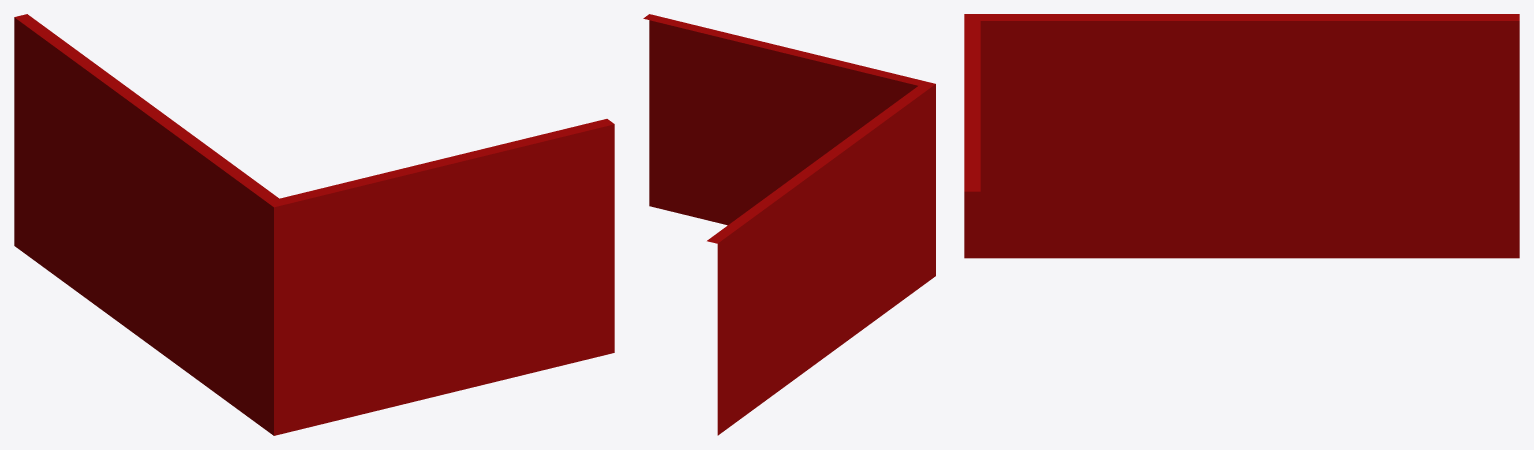
The model's file is DetailsWall01.fbx.
3 views of the same model, side by side, from view 1: azimuth 30°, elevation 25°; view 2: azimuth 150°, elevation 25°; view 3: azimuth 270°, elevation 25° (orthographic). The views are drawn at different scales.
Visible parts, largest first — view 1: DetailsWall01; view 2: DetailsWall01; view 3: DetailsWall01.
Part boxes in pixels (<box>): DetailsWall01: <box>14,14,614,435</box>; DetailsWall01: <box>643,14,935,435</box>; DetailsWall01: <box>964,14,1519,258</box>.
Bounding box in the file's own units: 78 × 50 × 103.
